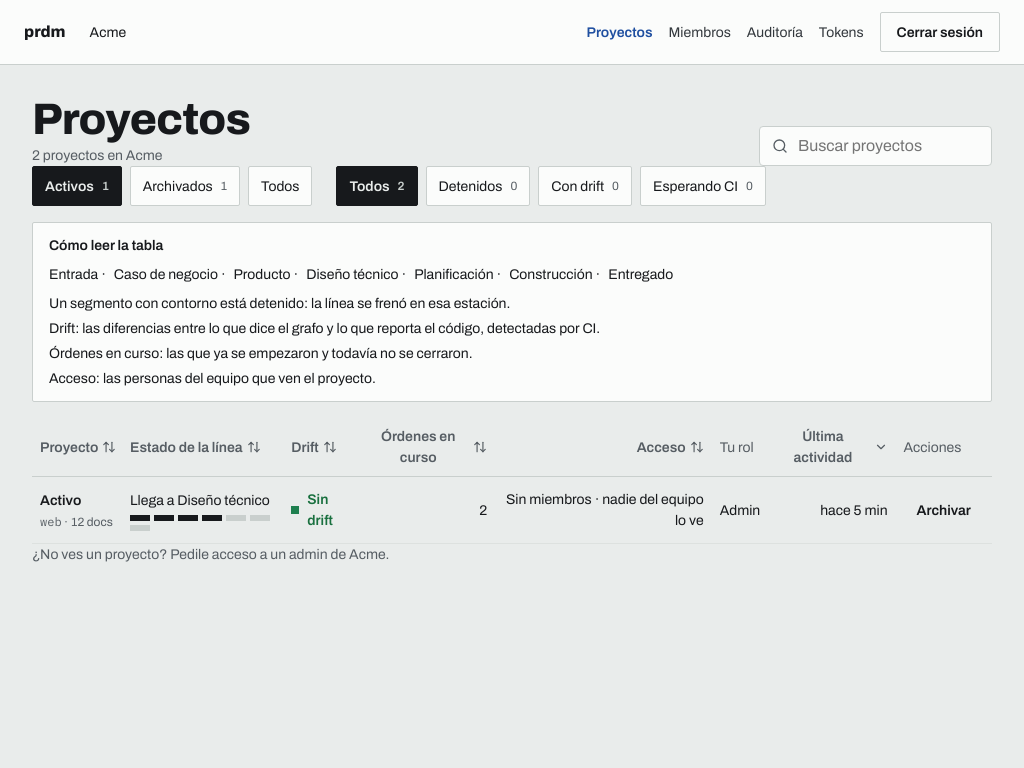
Scenario: ProjectsDashboard › filters archived projects out of "Activos" and into "Archivados"
Expected: the text "Activo" is shown, [40,490,81,510]
Expected: the text "Viejo" is not shown
Click the radio button labelled "Archivados 1" at (185, 186), box [130,166,240,206]
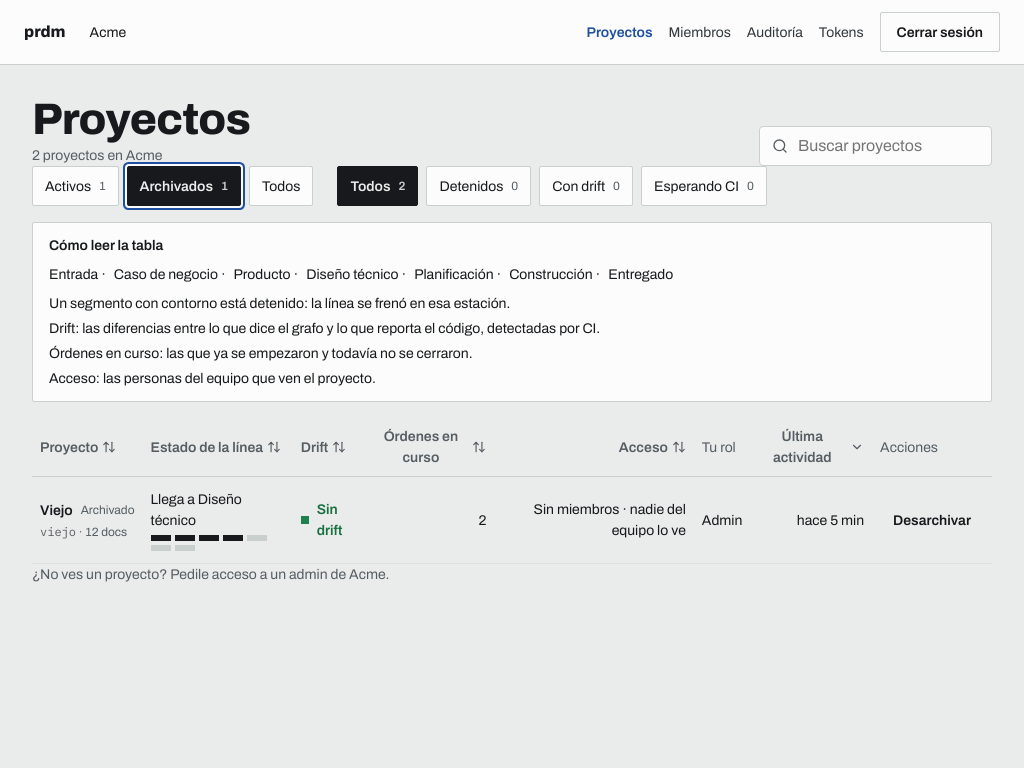
Expected: the text "Viejo" is shown, [40,500,73,520]
